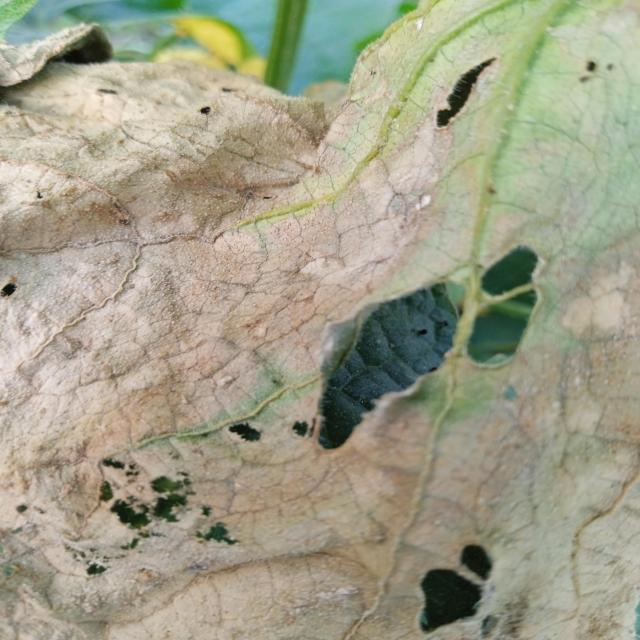cucumber_anthracnose: (21, 19, 632, 637)
